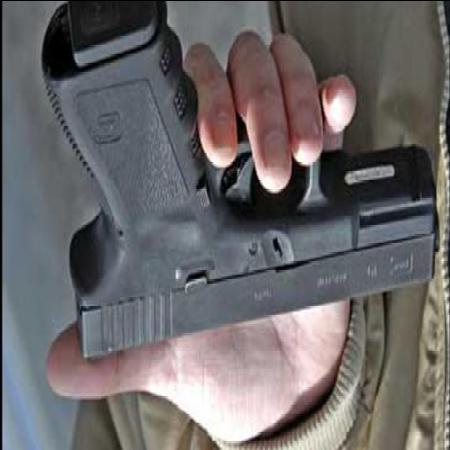Pistol: (45, 8, 434, 366)
